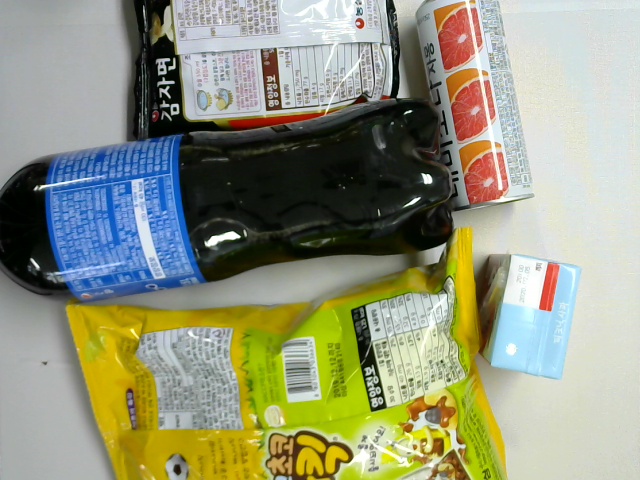Banana_Kick: (62, 222, 510, 480)
Demisoda_Grapefruit_Can_250ml: (413, 1, 539, 213)
Pepsi_Cola_1.5L: (1, 98, 457, 303)
Picnic_Apple: (474, 250, 582, 382)
Potato: (128, 1, 403, 147)
